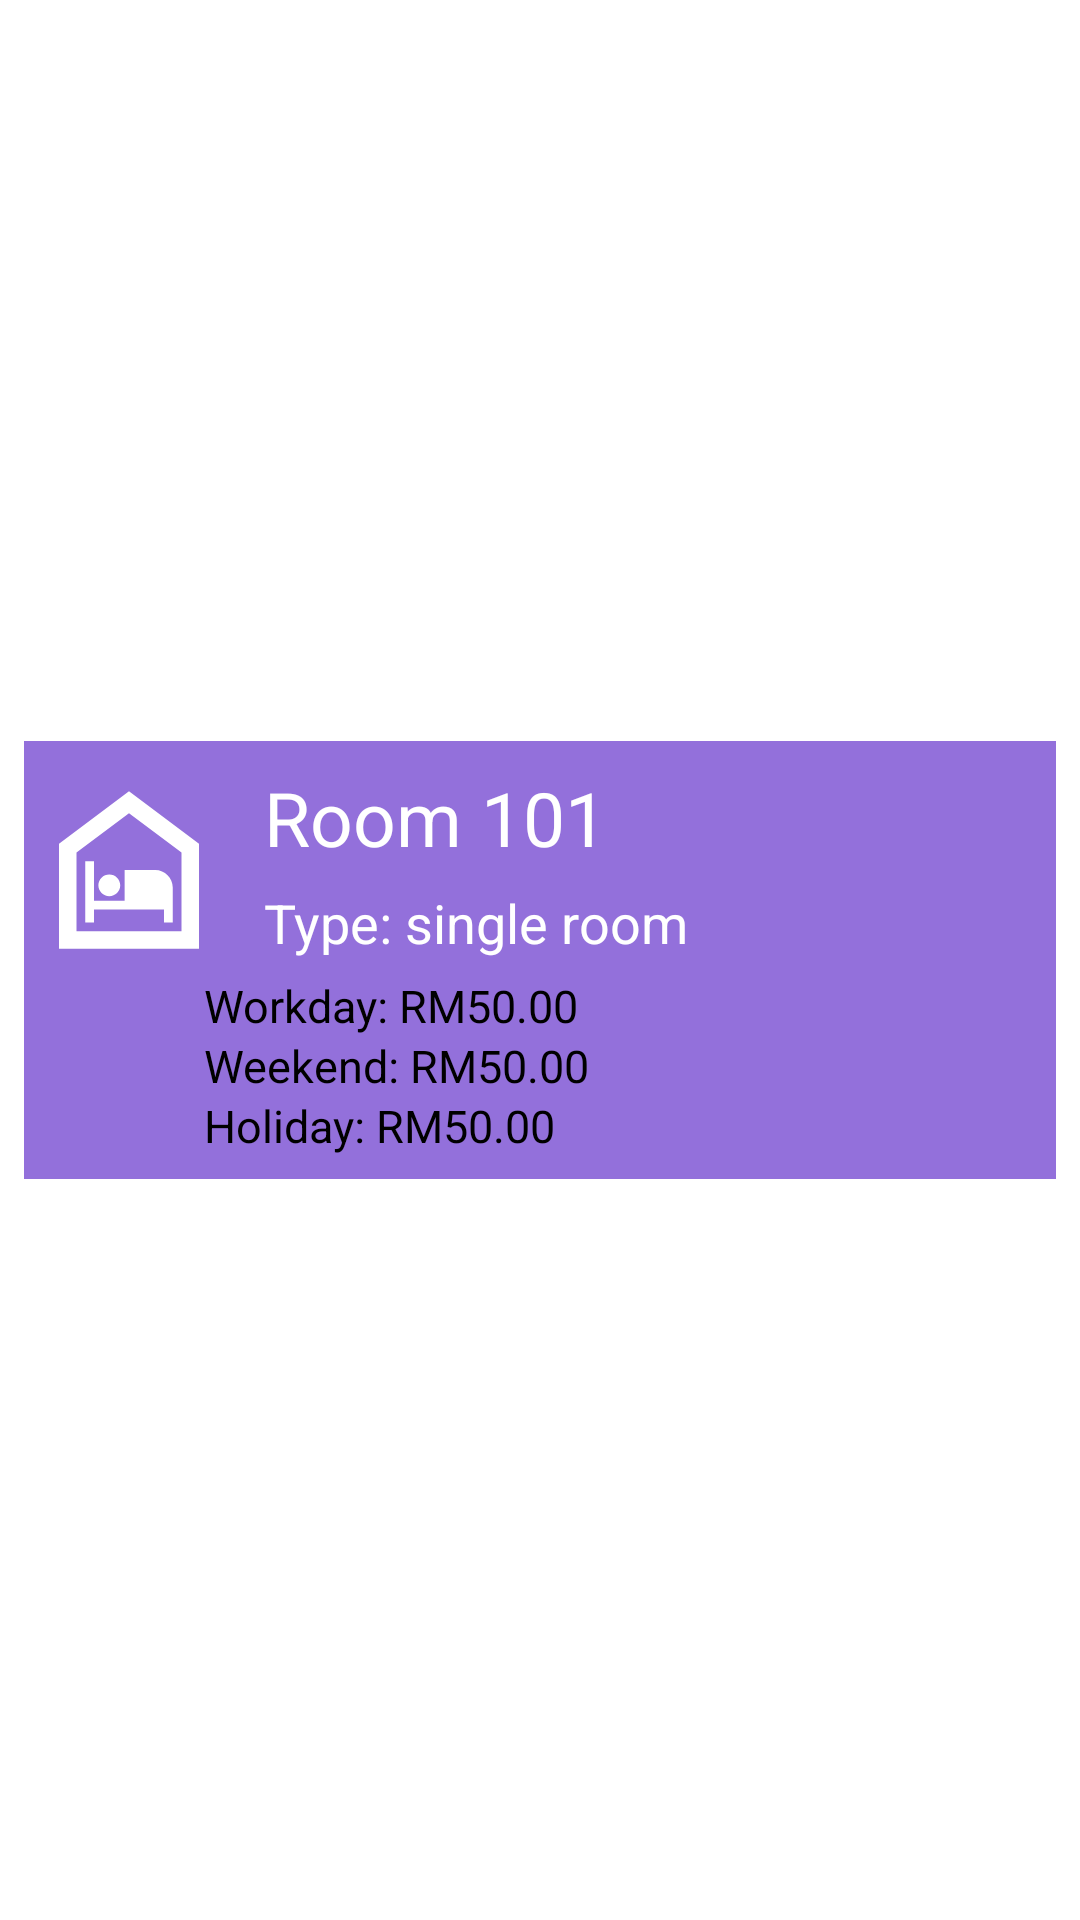

Icons on this 1080×1920 Android screen, each with the point to tap as [x,y]:
night shelter: [129,870]
